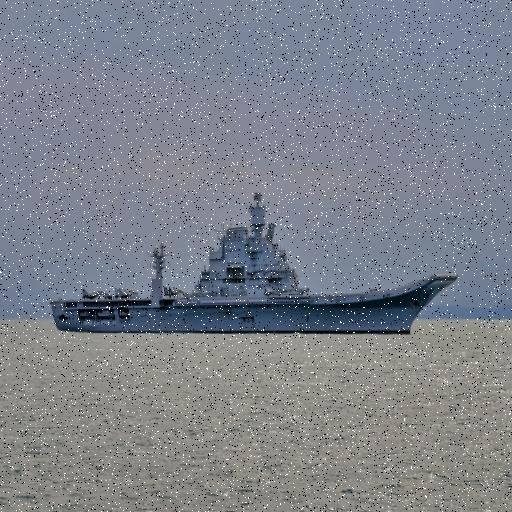Portanaves: (48, 192, 463, 340)
